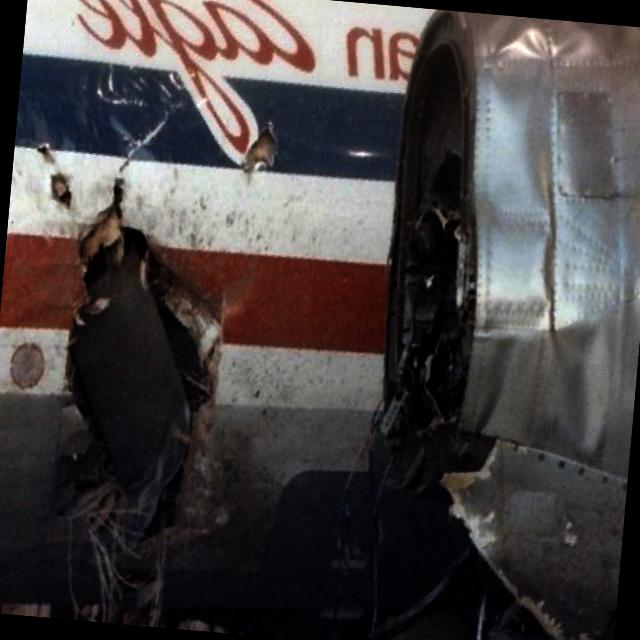dent: (545, 328, 617, 453)
